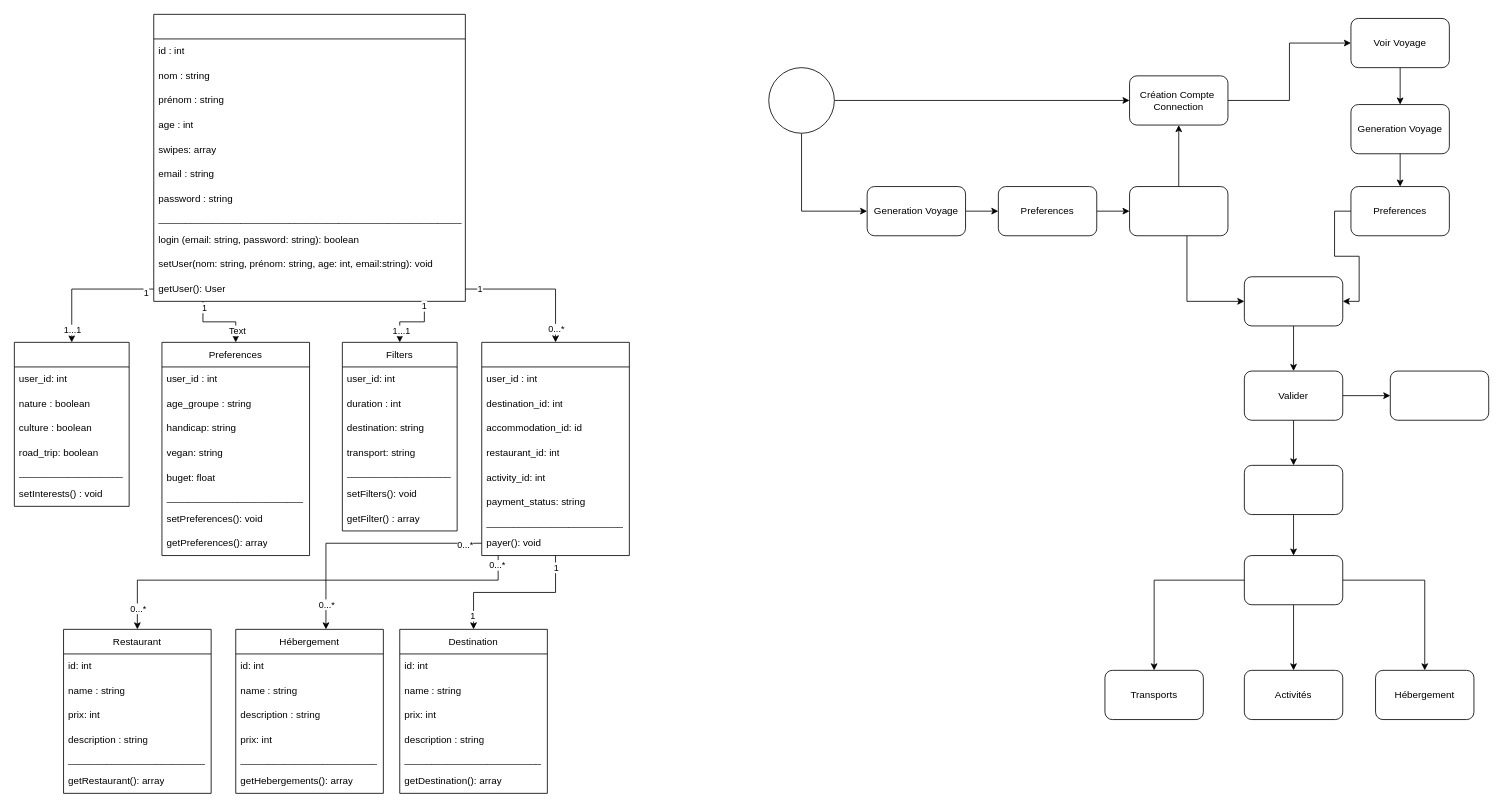
The diagram is 1503 pixels wide and 808 high, and some of its shapes have lost their labels. Each missing label, with the box of its shape:
CentreInterets: (14, 342, 129, 506)
Connecté ?: (1129, 186, 1228, 236)
Enregistrer Brouillon: (1389, 370, 1489, 420)
Itinéraire: (1244, 555, 1343, 605)
Page drag & drop de l'itineraire: (1244, 276, 1343, 326)
Payer: (1244, 465, 1343, 515)
UserTravel: (481, 342, 629, 556)
Utilisateur: (153, 14, 465, 301)
